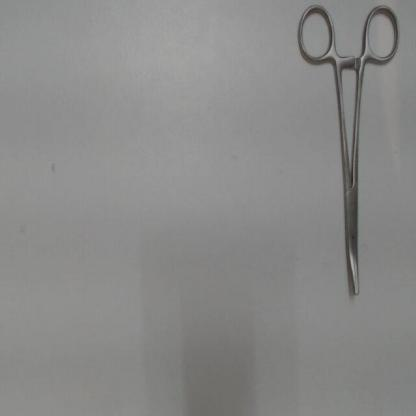Crile Artery Forceps: (294, 3, 406, 308)
